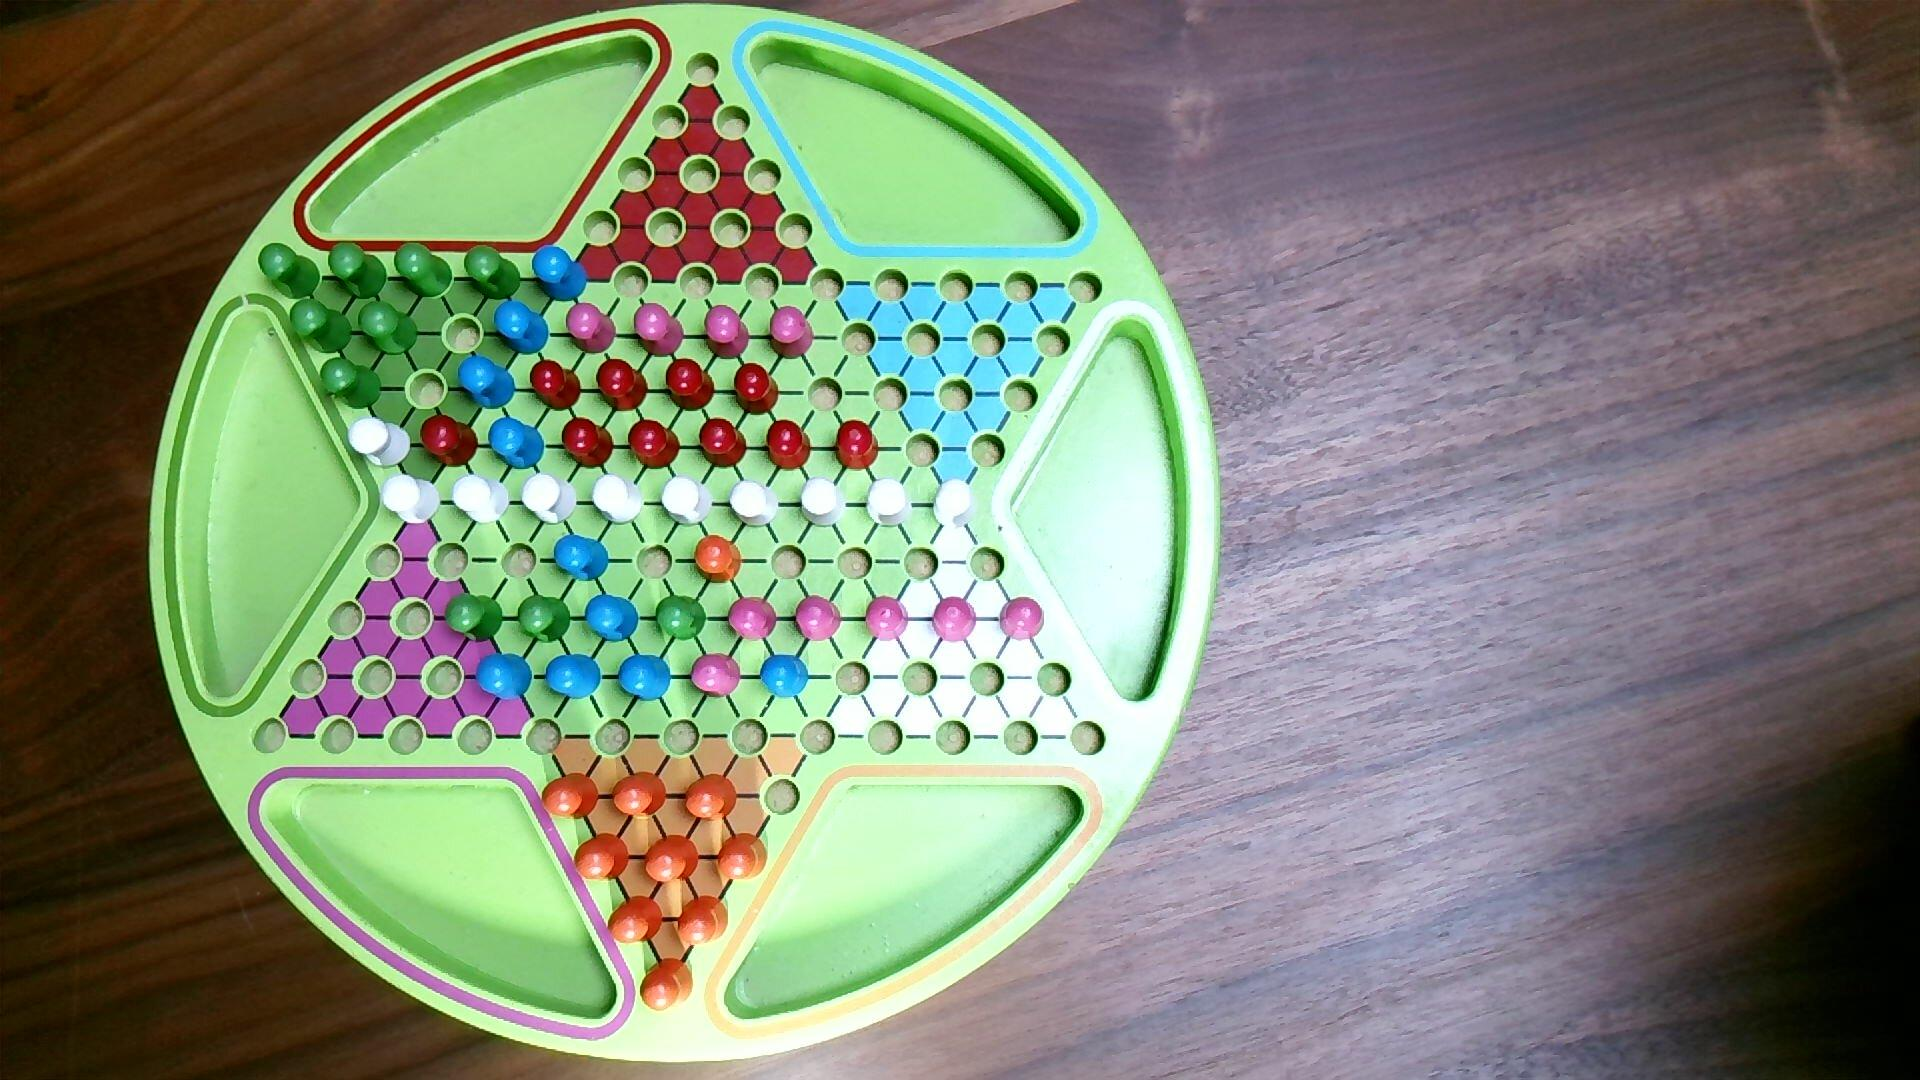B: (458, 353, 518, 411), (492, 299, 553, 357), (531, 245, 589, 305), (487, 415, 549, 471), (473, 651, 534, 703), (553, 533, 611, 584), (583, 593, 641, 644), (545, 653, 604, 702), (617, 653, 674, 703), (760, 653, 812, 702)
G: (289, 297, 355, 356), (327, 240, 389, 302), (257, 243, 322, 301), (357, 299, 421, 357), (463, 244, 524, 302), (320, 357, 385, 411), (396, 241, 454, 301), (444, 592, 505, 645), (517, 593, 574, 645), (655, 593, 709, 644)
O: (640, 957, 696, 1015), (541, 771, 603, 823), (607, 894, 666, 947), (642, 833, 702, 885), (676, 894, 732, 948), (683, 771, 740, 824), (574, 832, 632, 884), (611, 770, 669, 822), (715, 831, 770, 884), (692, 533, 744, 585)
R: (419, 411, 481, 469), (595, 357, 651, 414), (626, 418, 683, 473), (560, 415, 616, 469), (529, 357, 583, 413), (665, 357, 717, 413), (698, 417, 750, 471), (832, 418, 881, 473), (733, 363, 781, 419), (766, 418, 814, 473)
R2: (633, 301, 686, 359), (564, 301, 618, 355), (767, 305, 816, 363), (688, 651, 742, 702), (705, 305, 752, 363), (727, 595, 779, 644), (793, 593, 843, 644), (998, 595, 1047, 644), (931, 595, 978, 644), (865, 593, 911, 644)
W: (381, 473, 443, 527), (348, 417, 411, 469), (521, 472, 579, 527), (452, 473, 512, 527), (659, 473, 715, 529), (592, 472, 647, 527), (728, 477, 781, 530), (865, 476, 914, 530), (800, 476, 848, 530), (931, 477, 977, 531)
